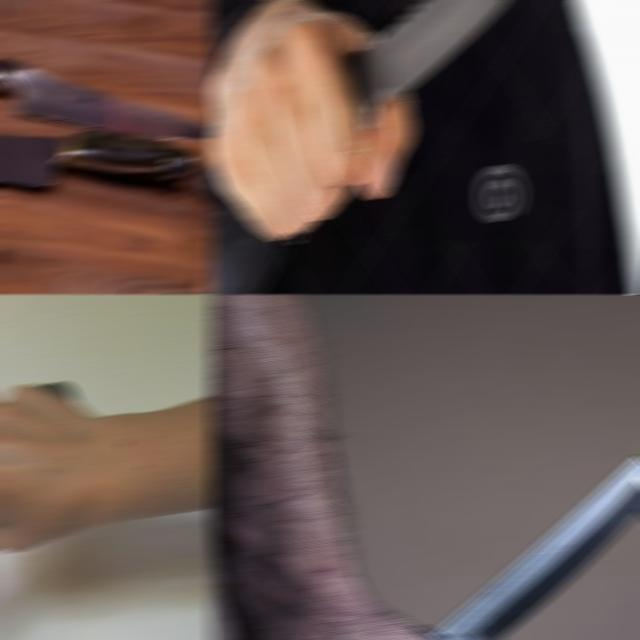Knife: (424, 454, 640, 640), (0, 34, 214, 139), (339, 0, 511, 129), (0, 127, 201, 189)
Knife_Handle: (208, 0, 598, 240), (218, 419, 640, 640), (0, 371, 138, 640)
